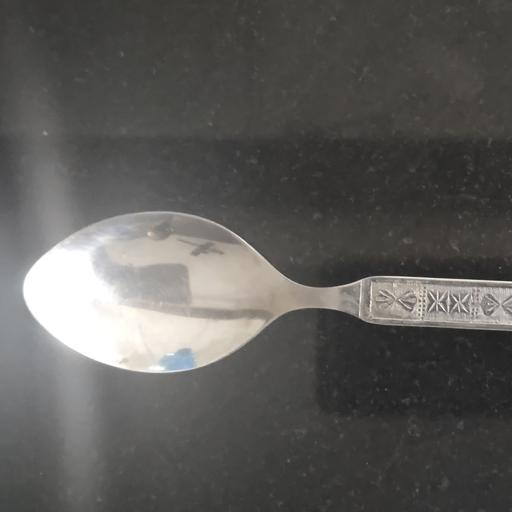spoon: (22, 211, 511, 376)
